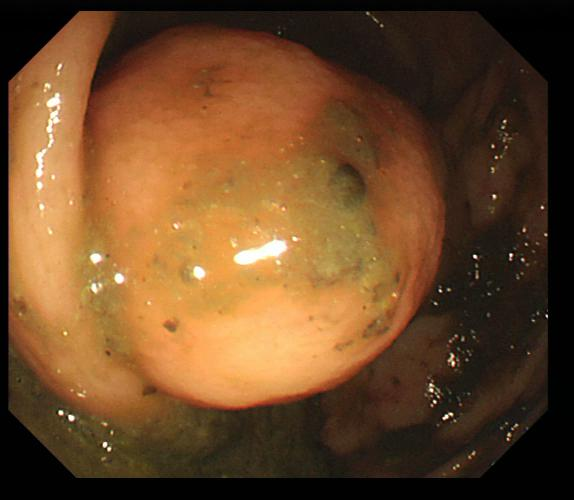polyp: (82, 36, 458, 414)
